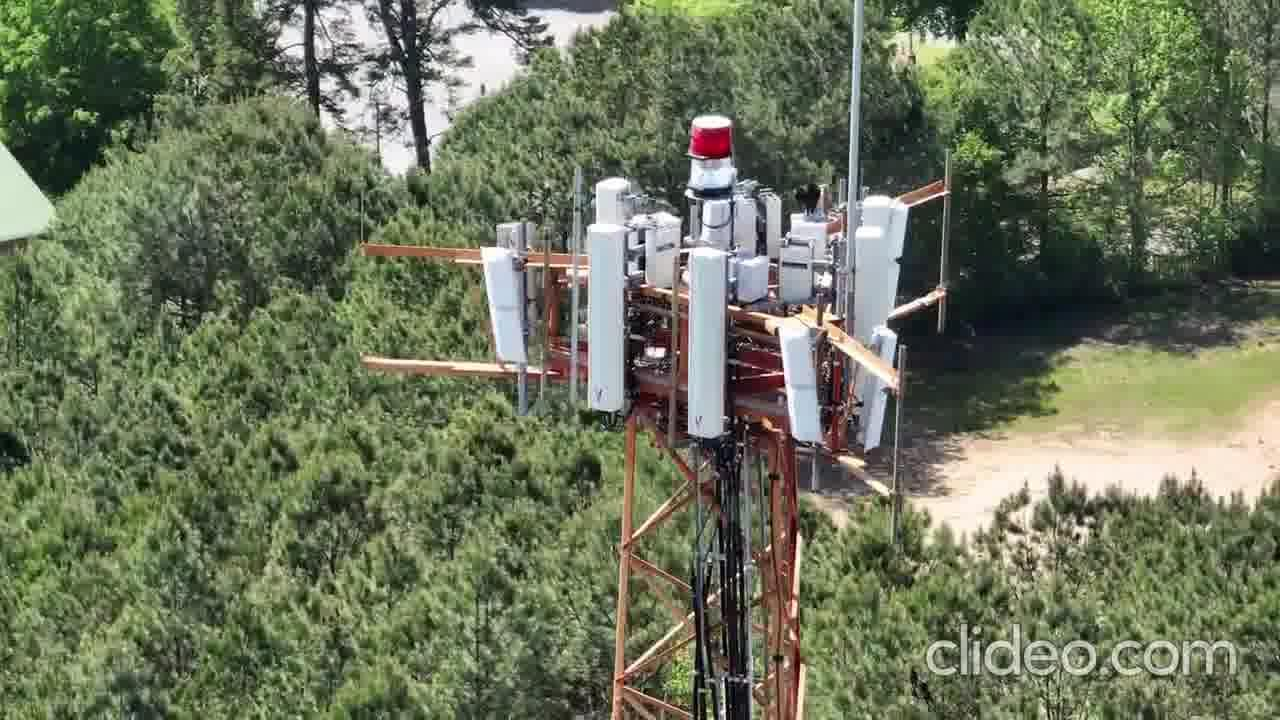antenna: (573, 216, 633, 412), (678, 242, 731, 450), (848, 193, 919, 327), (775, 319, 838, 442), (479, 243, 535, 375), (849, 327, 903, 454)
